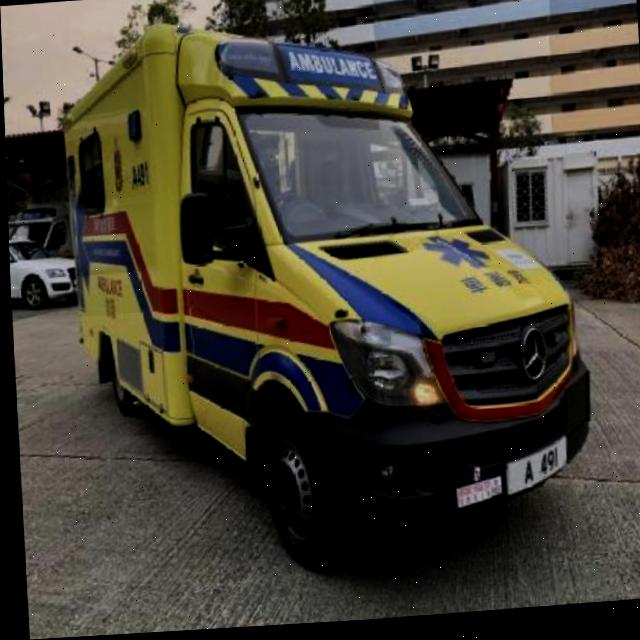emergency: (55, 0, 597, 586)
